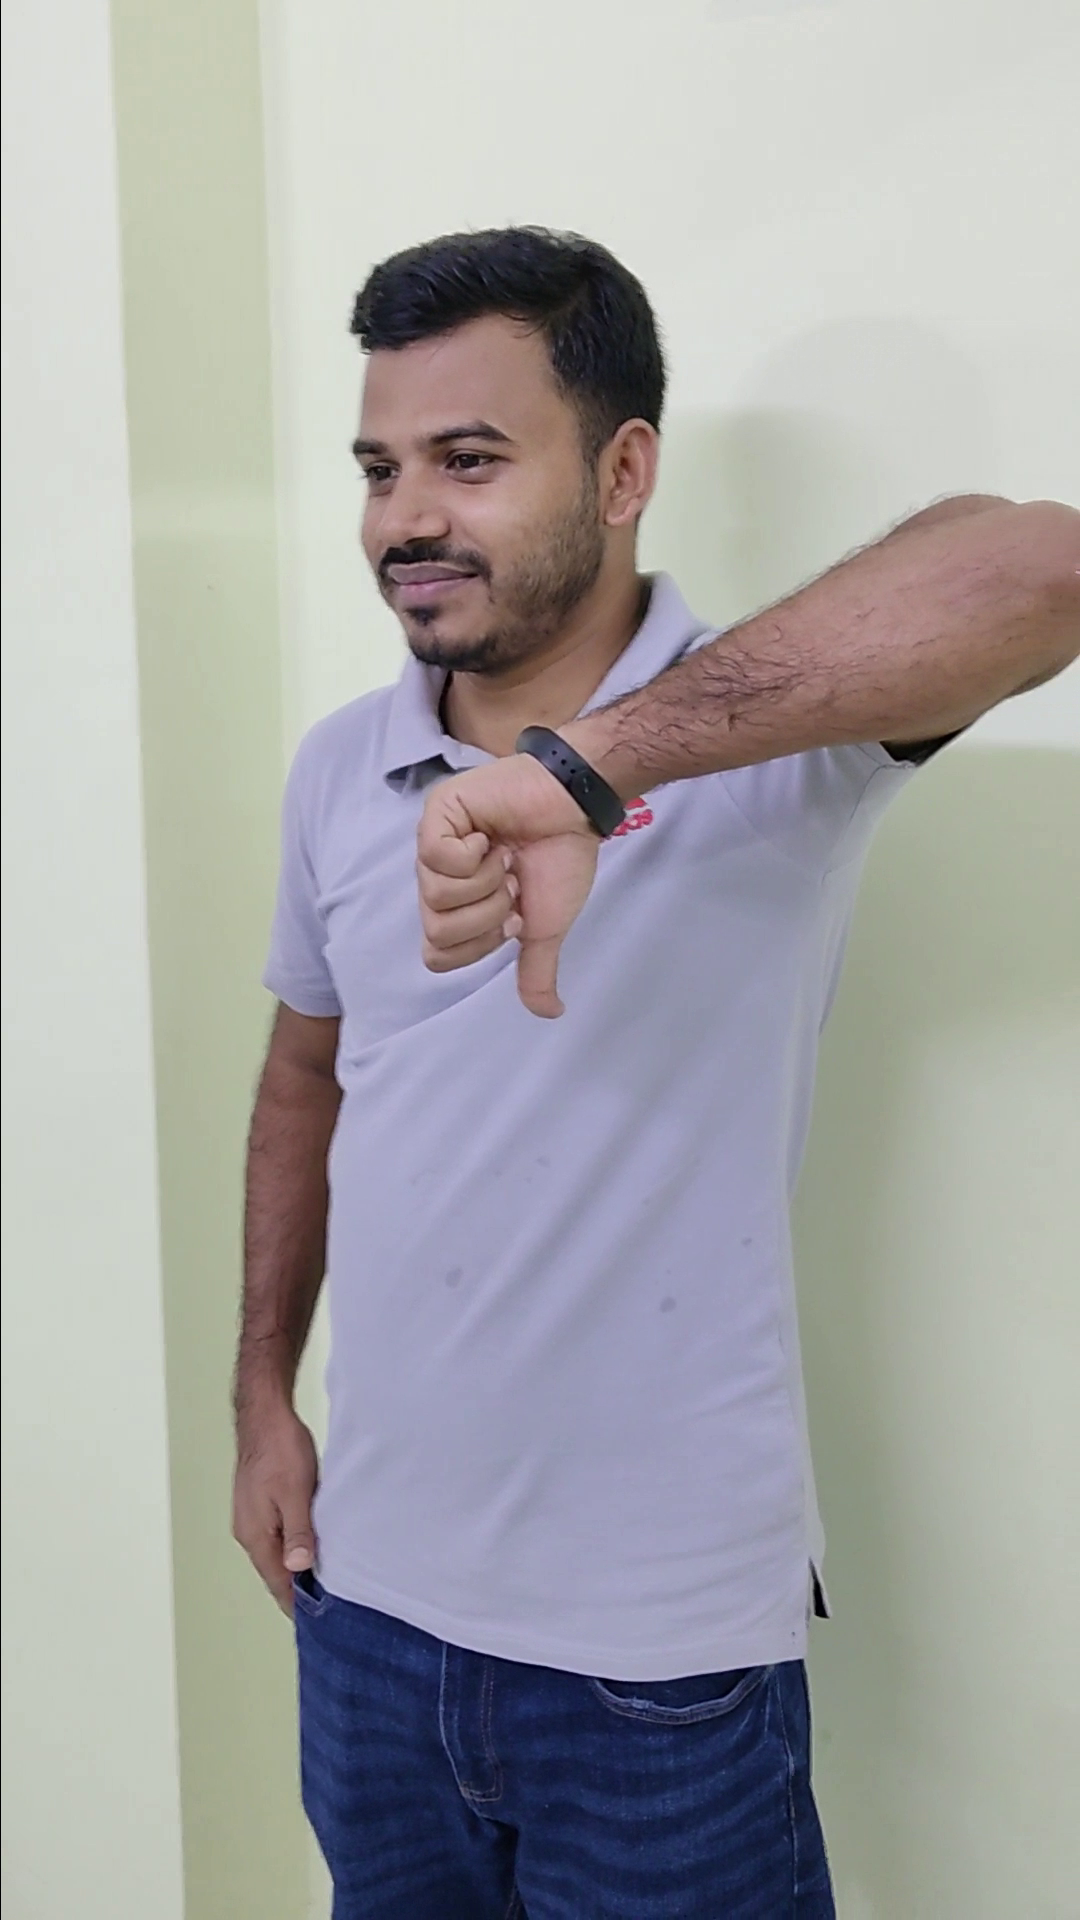Dislike: (389, 713, 618, 1039)
None: (208, 1348, 355, 1640)
